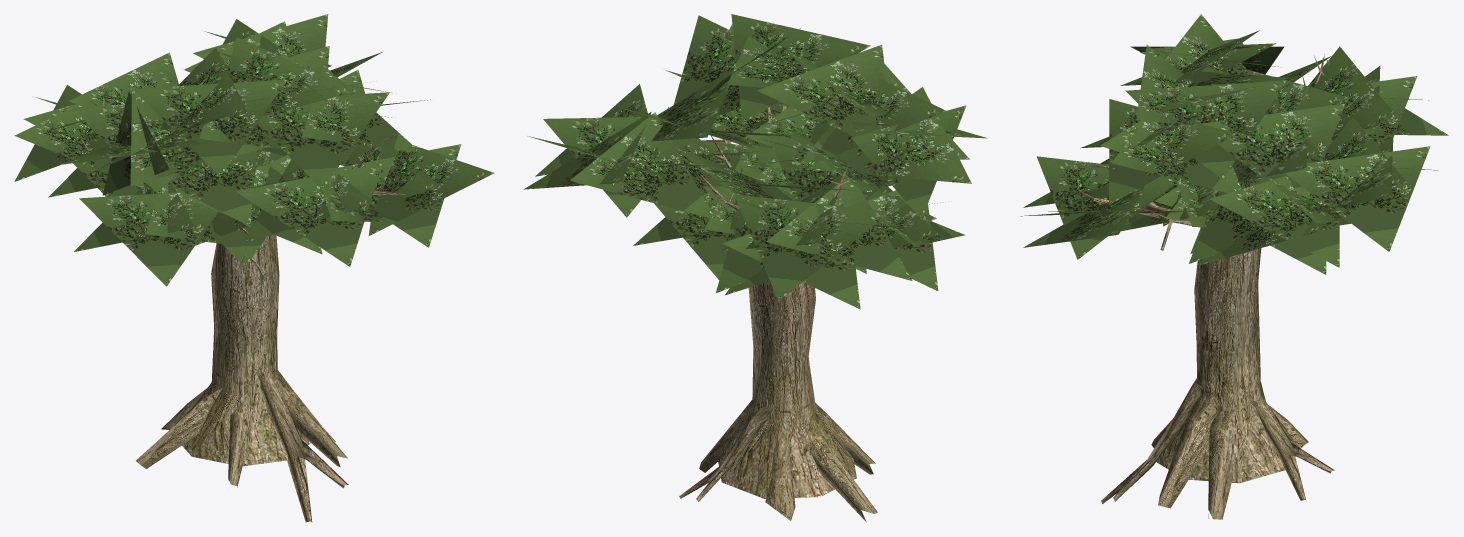
File: fig_0.glb
3 renders of one model, left to right at view 1: azimuth 30°, elevation 25°; view 2: azimuth 150°, elevation 25°; view 3: azimuth 270°, elevation 25°, orthographic. The views are drawn at different scales.
Visible parts, largest first — view 1: fig_0; view 2: fig_0; view 3: fig_0.
Part boxes in pixels (x1,y1,x2,y2): fig_0: (14, 14, 494, 522); fig_0: (523, 14, 987, 522); fig_0: (1020, 14, 1448, 519).
Size of the model in its own units: 9.32 by 10.28 by 9.25.
Materials: 2 (2 with a texture image).
